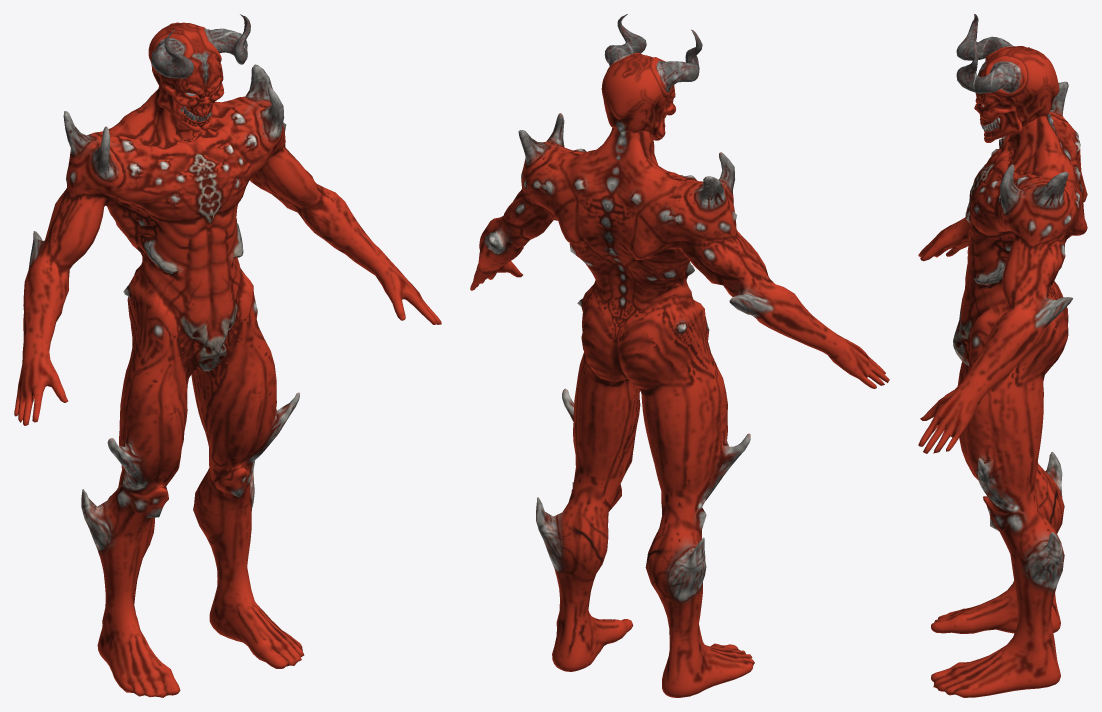
File: demonio[1].fbx
3 renders of one model, left to right at view 1: azimuth 30°, elevation 25°; view 2: azimuth 150°, elevation 25°; view 3: azimuth 270°, elevation 25°, orthographic. The views are drawn at different scales.
Parts seen in each view (by area): view 1: demonio lowdesplazamiento; view 2: demonio lowdesplazamiento; view 3: demonio lowdesplazamiento.
Boxes of the visible parts, box(x1,y1,x2,y2) form: demonio lowdesplazamiento: box(14, 14, 441, 697); demonio lowdesplazamiento: box(470, 14, 889, 697); demonio lowdesplazamiento: box(918, 14, 1087, 697).
Bounding box in the file's own units: 1141 × 1687 × 412.
